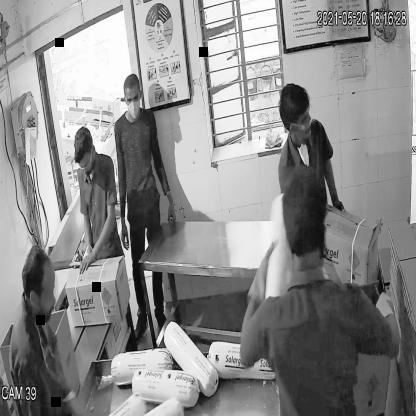no_goggles: (124, 94, 141, 108)
